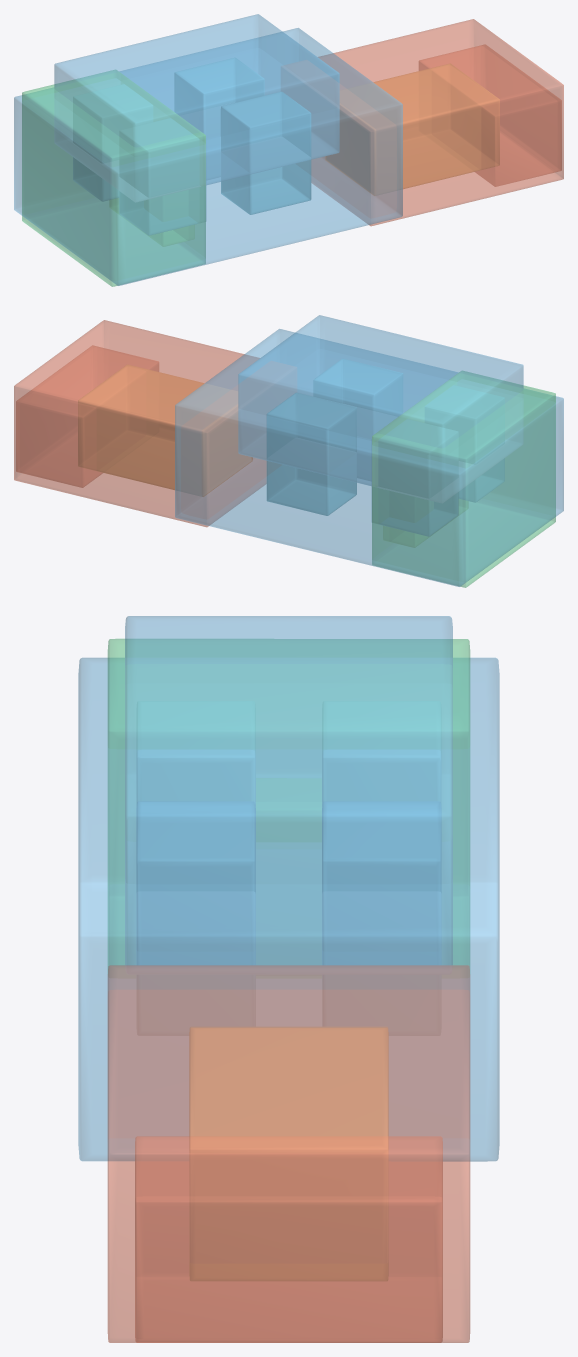
The model's file is envelopes.glb.
The picture shows the model from 3 angles, top to bottom: view 1: azimuth 30°, elevation 25°; view 2: azimuth 150°, elevation 25°; view 3: azimuth 270°, elevation 25°; orthographic projection. The views are drawn at different scales.
Parts seen in each view (by area): view 1: CABIN_ENVELOPE, ENGINE_BAY, CARGO_ENVELOPE, OCCUPANT_SPACE_-0.35569599999999996, ENGINE_BAY_CORE, OCCUPANT_SPACE_0.35569599999999996; view 2: CABIN_ENVELOPE, ENGINE_BAY, CARGO_ENVELOPE, OCCUPANT_SPACE_0.35569599999999996, ENGINE_BAY_CORE, OCCUPANT_SPACE_-0.35569599999999996; view 3: CABIN_ENVELOPE, ENGINE_BAY, CARGO_ENVELOPE, ENGINE_BAY_CORE, OCCUPANT_SPACE_0.35569599999999996, OCCUPANT_SPACE_-0.35569599999999996.
Part boxes in pixels (x1=…): CABIN_ENVELOPE: x1=14, y1=14, x2=402, y2=285; ENGINE_BAY: x1=311, y1=19, x2=563, y2=226; CARGO_ENVELOPE: x1=22, y1=70, x2=205, y2=286; OCCUPANT_SPACE_-0.35569599999999996: x1=119, y1=92, x2=311, y2=235; ENGINE_BAY_CORE: x1=325, y1=63, x2=499, y2=195; OCCUPANT_SPACE_0.35569599999999996: x1=73, y1=58, x2=264, y2=201; CABIN_ENVELOPE: x1=175, y1=315, x2=563, y2=586; ENGINE_BAY: x1=14, y1=320, x2=266, y2=527; CARGO_ENVELOPE: x1=372, y1=371, x2=555, y2=587; OCCUPANT_SPACE_0.35569599999999996: x1=266, y1=393, x2=458, y2=536; ENGINE_BAY_CORE: x1=78, y1=364, x2=252, y2=496; OCCUPANT_SPACE_-0.35569599999999996: x1=313, y1=359, x2=504, y2=502; CABIN_ENVELOPE: x1=78, y1=616, x2=499, y2=1161; ENGINE_BAY: x1=107, y1=965, x2=470, y2=1342; CARGO_ENVELOPE: x1=107, y1=638, x2=470, y2=968; ENGINE_BAY_CORE: x1=189, y1=1027, x2=388, y2=1280; OCCUPANT_SPACE_0.35569599999999996: x1=322, y1=701, x2=441, y2=964; OCCUPANT_SPACE_-0.35569599999999996: x1=136, y1=701, x2=255, y2=964.
Bounding box in the file's own units: 4.06 × 1.33 × 1.61.
